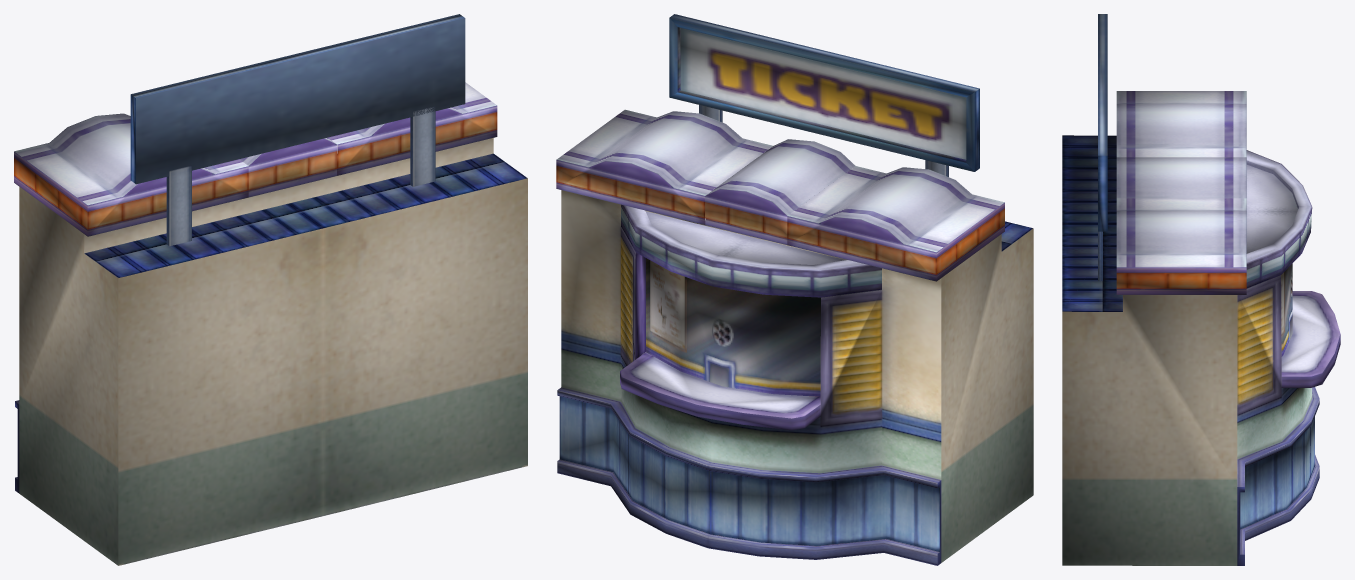
The model's file is s_SEticket01.glb.
3 views of the same model, side by side, from view 1: azimuth 30°, elevation 25°; view 2: azimuth 150°, elevation 25°; view 3: azimuth 270°, elevation 25° (orthographic). The views are drawn at different scales.
Parts seen in each view (by area): view 1: s_SEticket01; view 2: s_SEticket01; view 3: s_SEticket01.
Part boxes in pixels (x1,y1,x2,y2): s_SEticket01: (14,14,527,565); s_SEticket01: (556,14,1033,565); s_SEticket01: (1062,14,1340,565).
Size of the model in its own units: 3 by 3.11 by 2.
1 material, 1 textured.
